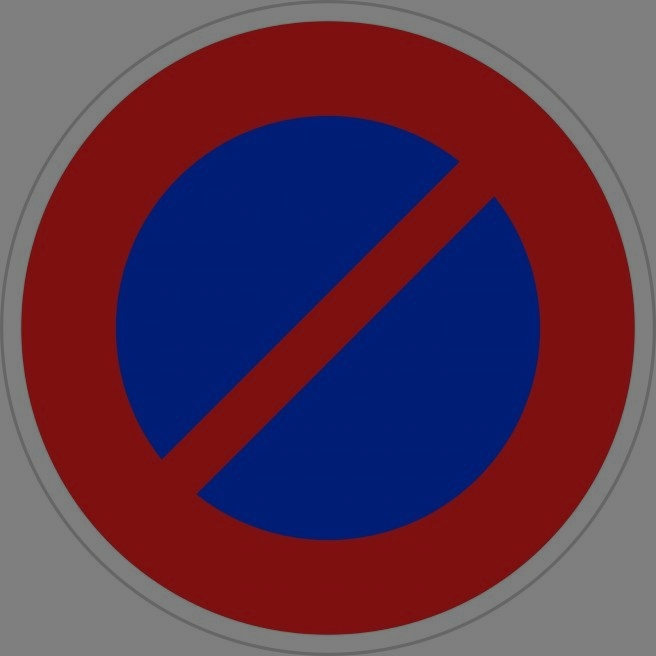Prohibition_sign: (10, 7, 656, 651)
